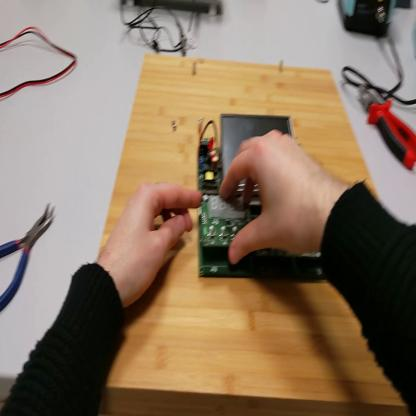hand: (219, 133, 326, 263), (103, 181, 203, 309)
low voltage board: (196, 110, 328, 277)
oscilloscope: (127, 1, 221, 18)
oscilloscope probe tip: (178, 21, 188, 54)
pliers: (2, 202, 55, 312), (361, 90, 416, 174)
welder station: (338, 3, 396, 39)
working area: (99, 56, 413, 412)
